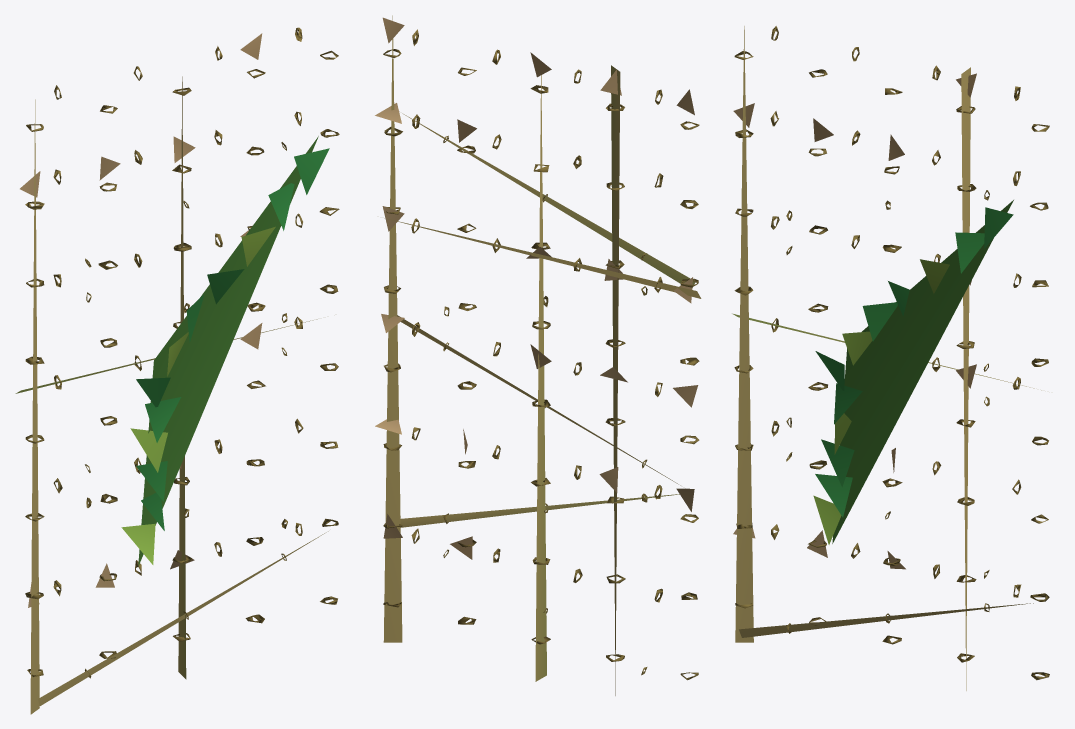
The model's file is canopy_trellis_lod2.glb.
3 views of the same model, side by side, from view 1: azimuth 30°, elevation 25°; view 2: azimuth 150°, elevation 25°; view 3: azimuth 330°, elevation 25° (orthographic).
Parts seen in each view (by area): view 1: canopy_trellis.001; view 2: canopy_trellis.001; view 3: canopy_trellis.001.
Boxes of the visible parts, box(x1,y1,x2,y2) form: canopy_trellis.001: box(15, 27, 339, 714); canopy_trellis.001: box(375, 15, 701, 695); canopy_trellis.001: box(732, 26, 1049, 690).
Size of the model in its own units: 14.4 by 26.7 by 2.37.
